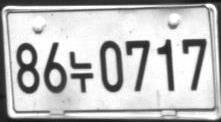0: (98, 39, 124, 93)
1: (153, 39, 179, 91)
6: (43, 42, 67, 93)
7: (181, 38, 206, 91), (125, 40, 149, 92)
8: (15, 42, 40, 94)
누: (68, 50, 93, 93)
